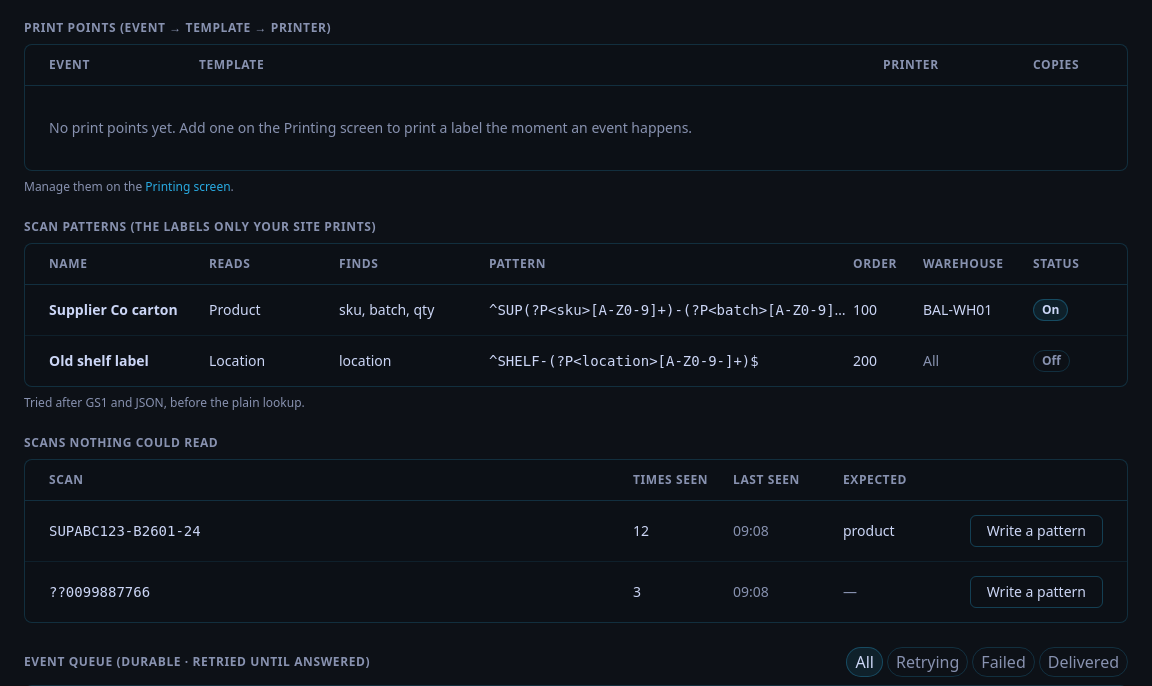
Test: Integrations › selects a pattern from the table into the form
(page scrolled)
Click the text "Old shelf label" at coordinates (99, 360), box [49,351,149,370]
(page scrolled)
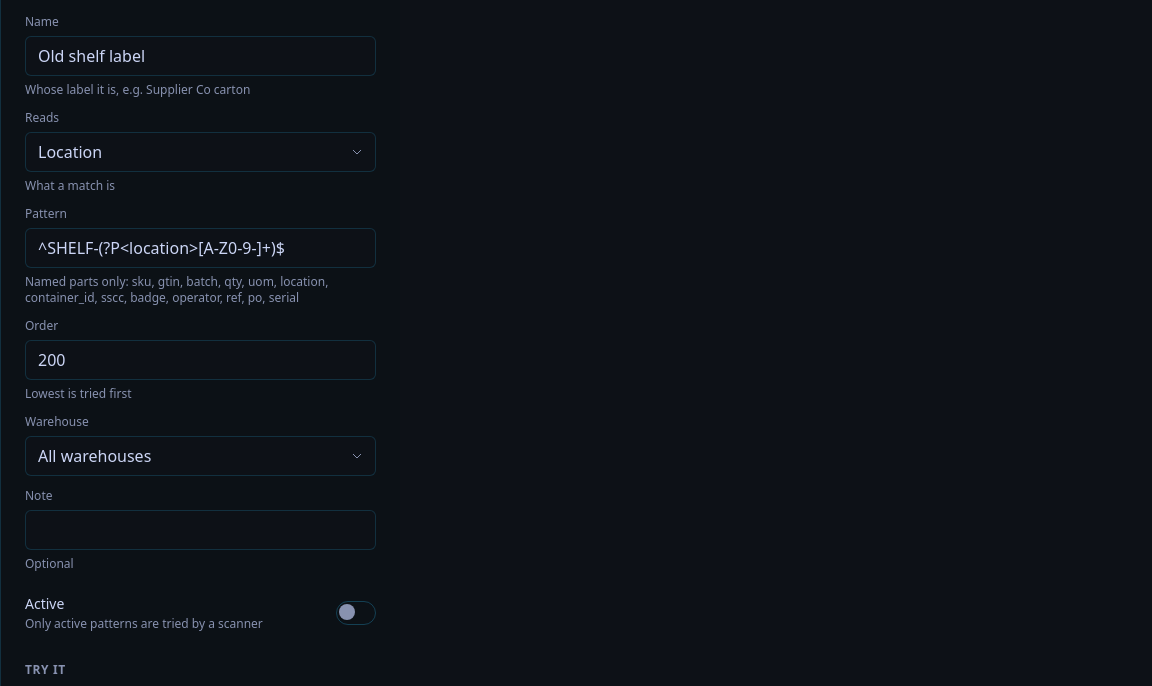
Result: the field labelled "Name Whose label it is, e.g. Supplier Co carton" holds "Old shelf label" at [25,36,376,76]
Result: the dropdown labelled "Reads What a match is" shows "Location" at [25,132,376,172]
Result: the dropdown labelled "Warehouse" shows "All warehouses" at [25,436,376,476]
